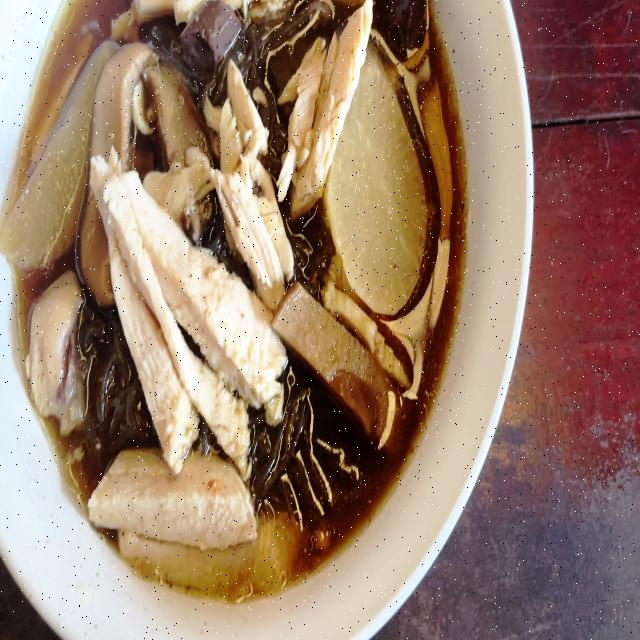boiled_chicken_blood_jelly: (176, 0, 239, 83), (371, 0, 431, 61)
chicken_shredded: (92, 162, 284, 445), (92, 441, 282, 591), (280, 1, 374, 210), (218, 71, 282, 308), (32, 277, 78, 426)
daikon_radish: (7, 42, 104, 278), (340, 93, 418, 287)
noodle: (22, 0, 444, 569)
